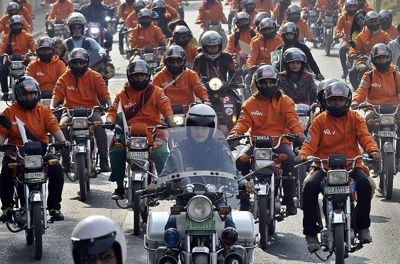helmet: (184, 102, 219, 144), (320, 81, 355, 117), (11, 75, 43, 109), (253, 64, 282, 99), (125, 56, 154, 90), (199, 30, 225, 63)
